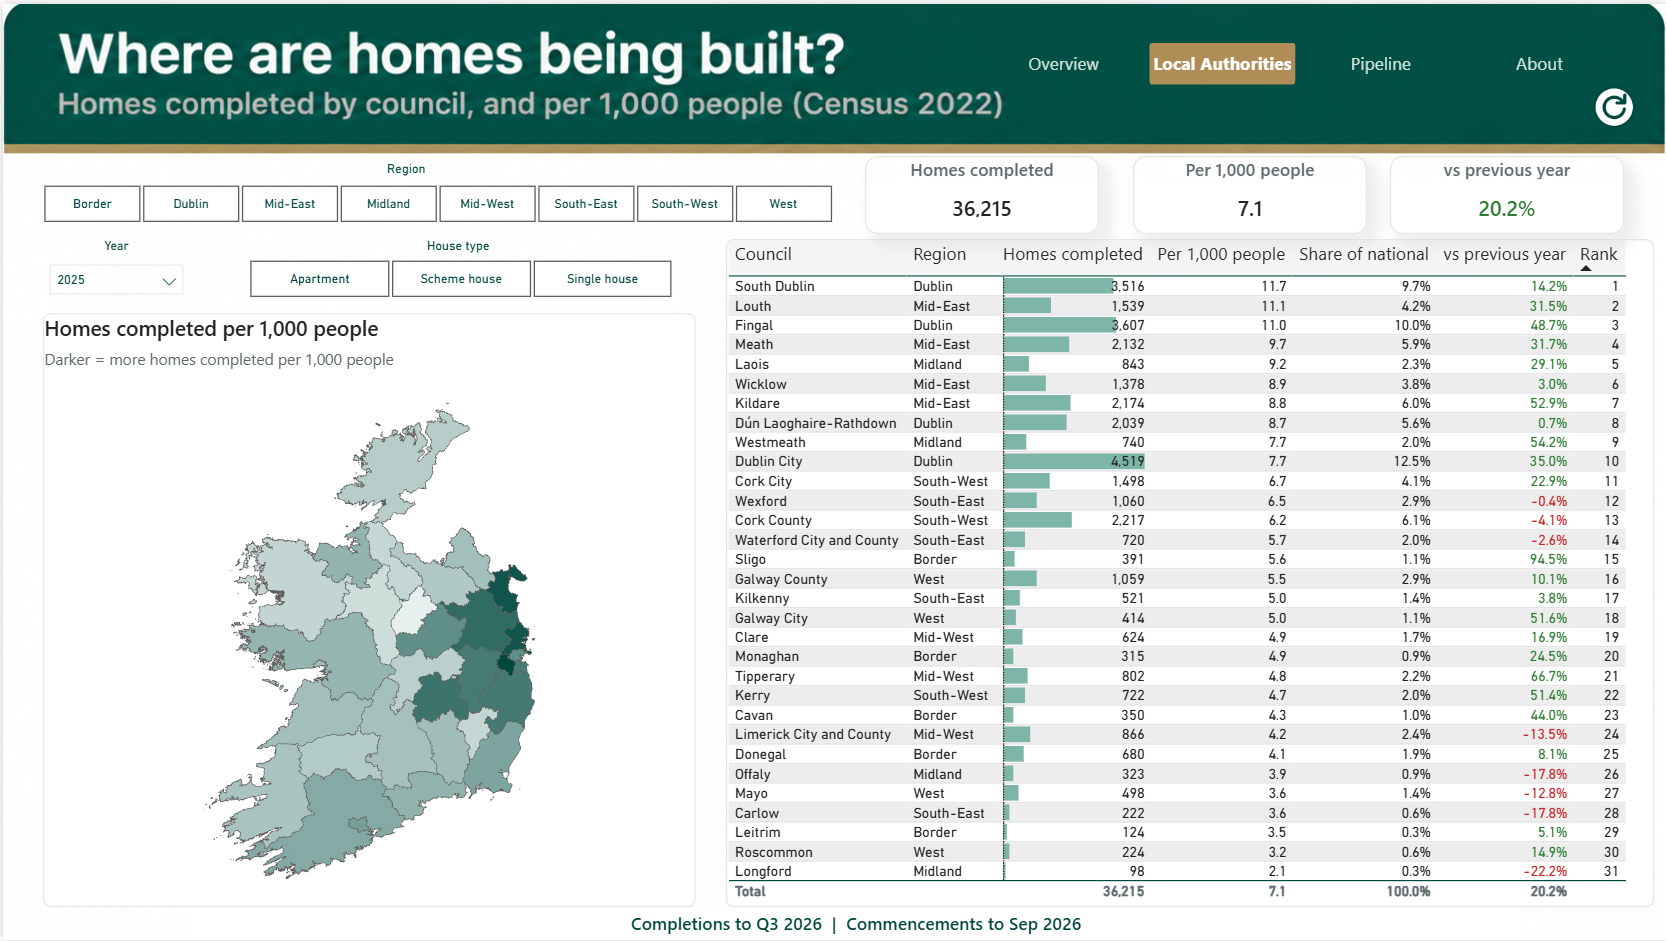

What the dashboard file says about the page in this screenshot:
{"tool":"powerbi","page":{"name":"Local Authorities","canvas":[1280,720],"ordinal":1},"visuals":[{"type":"card","fields":{"Values":["_Measures.Data Note"]},"box":[144.4,694.4,1023.3,24.4],"z":0},{"type":"slicer","fields":{"Values":["Completions.House Type"]},"box":[168.9,195.6,364.4,32.2],"z":1000},{"type":"slicer","fields":{"Values":["Date.Year"]},"box":[31.1,195.6,113.3,32.2],"z":2000},{"type":"shapeMap","title":"Homes completed per 1,000 people","fields":{"Category":["Local Authority.Map Key"],"Value":["_Measures.Completions per 1,000"]},"box":[31.1,237.8,502.2,456.7],"z":3000},{"type":"tableEx","fields":{"Values":["Local Authority.LA Name","Local Authority.Region","_Measures.Homes Completed","_Measures.Completions per 1,000","_Measures.Share of National %","_Measures.Completed YoY %","_Measures.Completions Rank"]},"box":[556.2,181,714.2,513.9],"z":4000},{"type":"textbox","box":[62.2,170,50,30],"z":5000},{"type":"textbox","box":[311.1,170,78.9,30],"z":6000},{"type":"textbox","box":[271.1,111.1,78.9,30],"z":7000},{"type":"cardVisual","title":"Homes completed","fields":{"Data":["_Measures.Homes Completed"]},"box":[663.3,116.7,180,60],"z":8000},{"type":"cardVisual","title":"Per 1,000 people","fields":{"Data":["_Measures.Completions per 1,000"]},"box":[868.9,116.7,180,60],"z":9000},{"type":"cardVisual","title":"vs previous year","fields":{"Data":["_Measures.Completed YoY %"]},"box":[1066.7,116.7,180,60],"z":10000},{"type":"image","box":[1215.5,62.5,47.4,34.3],"z":11000},{"type":"slicer","fields":{"Values":["Local Authority.Region"]},"box":[11.1,137.8,645.6,32.2],"z":12000},{"type":"pageNavigator","box":[760,30,480,32],"z":13000}]}

Visuals, with their boxes in screenshot pixels (x1, y1, x2, y2), scaled from the page's 1280x720 canvas onto the 1666x941 screenshot:
card - _Measures.Data Note: rect(188, 908, 1520, 939)
slicer - Completions.House Type: rect(220, 256, 694, 298)
slicer - Date.Year: rect(40, 256, 188, 298)
"Homes completed per 1,000 people" shapeMap: rect(40, 311, 694, 908)
tableEx - Local Authority.LA Name x Local Authority.Region: rect(724, 237, 1654, 908)
textbox: rect(81, 222, 146, 261)
textbox: rect(405, 222, 508, 261)
textbox: rect(353, 145, 456, 184)
"Homes completed" cardVisual: rect(863, 153, 1098, 231)
"Per 1,000 people" cardVisual: rect(1131, 153, 1365, 231)
"vs previous year" cardVisual: rect(1388, 153, 1623, 231)
image: rect(1582, 82, 1644, 127)
slicer - Local Authority.Region: rect(14, 180, 855, 222)
pageNavigator: rect(989, 39, 1614, 81)
